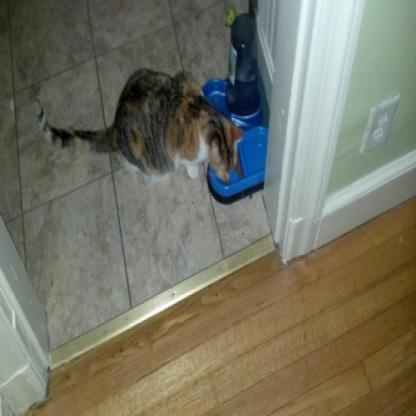Target: (31, 62, 243, 200)
